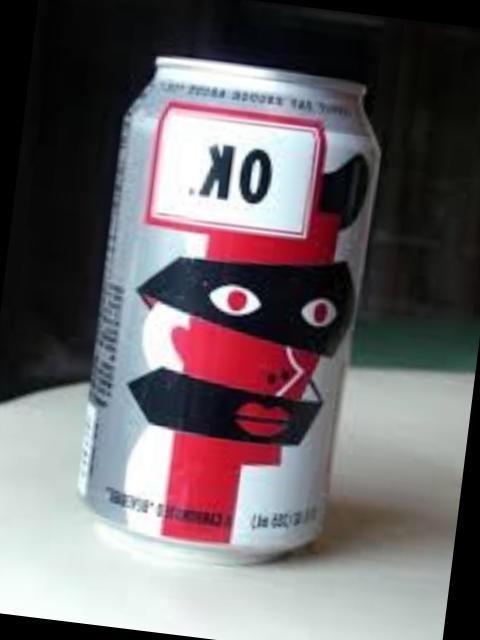metal: (83, 53, 381, 554)
